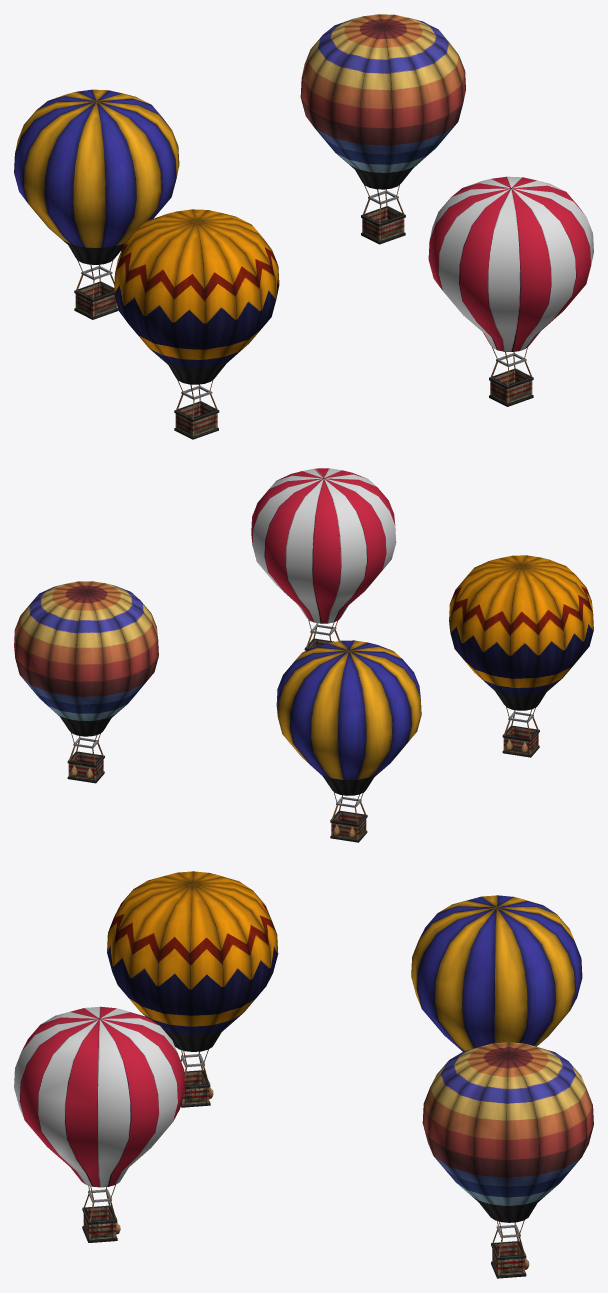
Rendered from Air ballons.fbx.
3 renders of one model, top to bottom at view 1: azimuth 30°, elevation 25°; view 2: azimuth 150°, elevation 25°; view 3: azimuth 270°, elevation 25°, orthographic. The views are drawn at different scales.
Visible parts, largest first — view 1: air_ballon_3, air_ballon_1, air_ballon_4, air_ballon_2; view 2: air_ballon_1, air_ballon_3, air_ballon_2, air_ballon_4; view 3: air_ballon_4, air_ballon_3, air_ballon_1, air_ballon_2.
Part boxes in pixels (left/top/right/bottom): air_ballon_3: left=300, top=14, right=465, bottom=244; air_ballon_1: left=114, top=209, right=279, bottom=439; air_ballon_4: left=428, top=176, right=593, bottom=406; air_ballon_2: left=14, top=89, right=179, bottom=319; air_ballon_1: left=449, top=555, right=593, bottom=757; air_ballon_3: left=14, top=581, right=158, bottom=783; air_ballon_2: left=276, top=640, right=421, bottom=842; air_ballon_4: left=251, top=468, right=396, bottom=650; air_ballon_4: left=14, top=1006, right=185, bottom=1242; air_ballon_3: left=422, top=1042, right=593, bottom=1278; air_ballon_1: left=107, top=871, right=278, bottom=1107; air_ballon_2: left=411, top=895, right=582, bottom=1051.
Bounding box in the file's own units: 22683 × 9385 × 22858.
